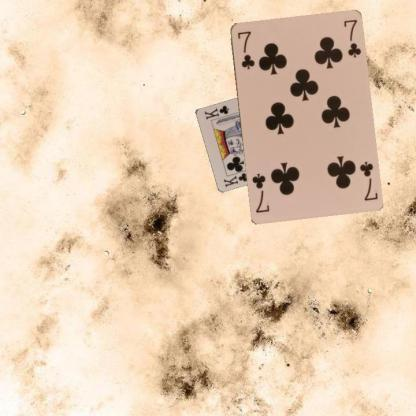7c: (356, 158, 379, 202), (235, 28, 256, 70)
Kc: (220, 170, 250, 188)
